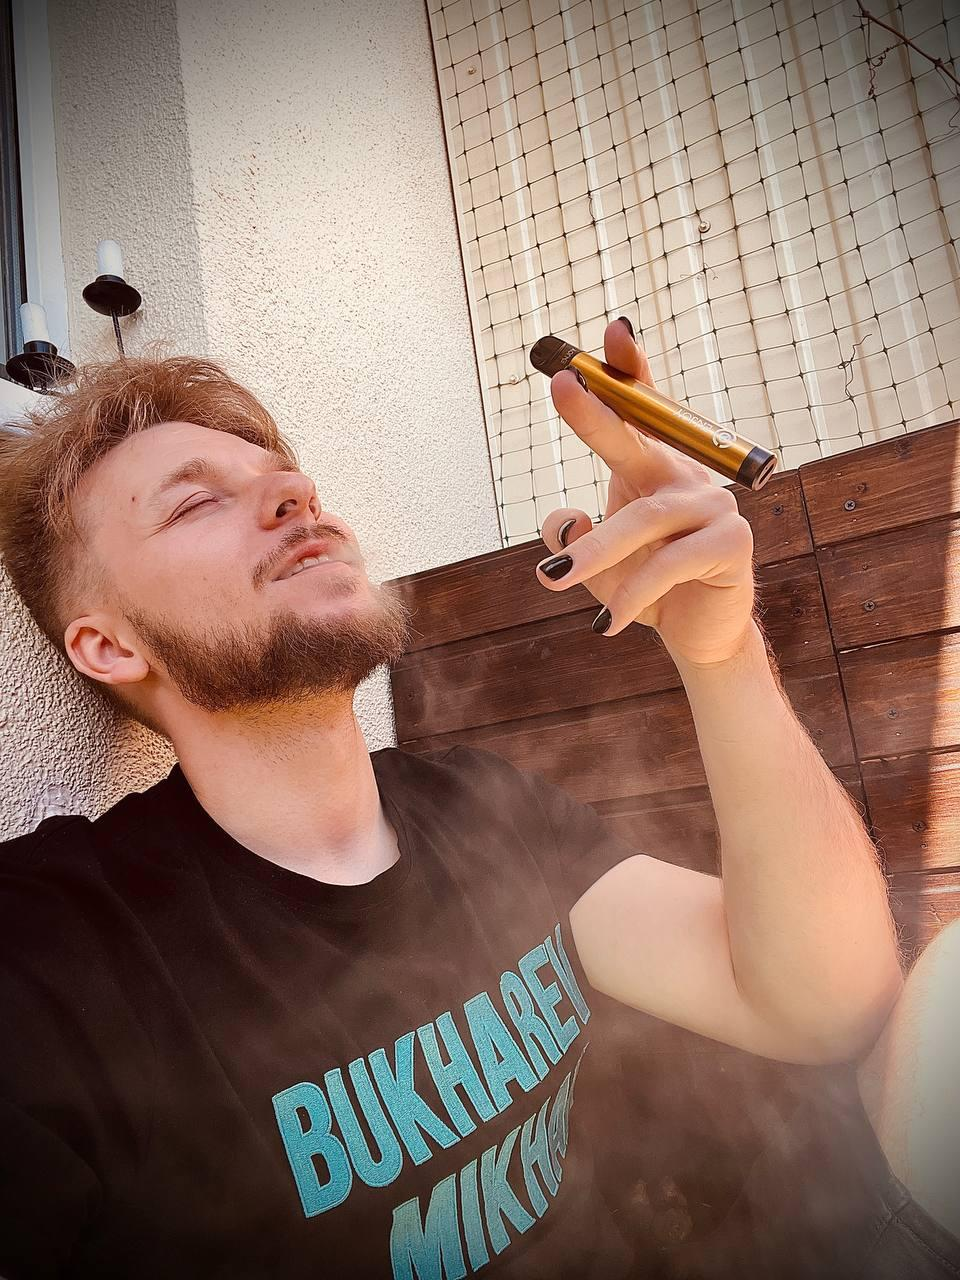Vape: (529, 335, 776, 494)
